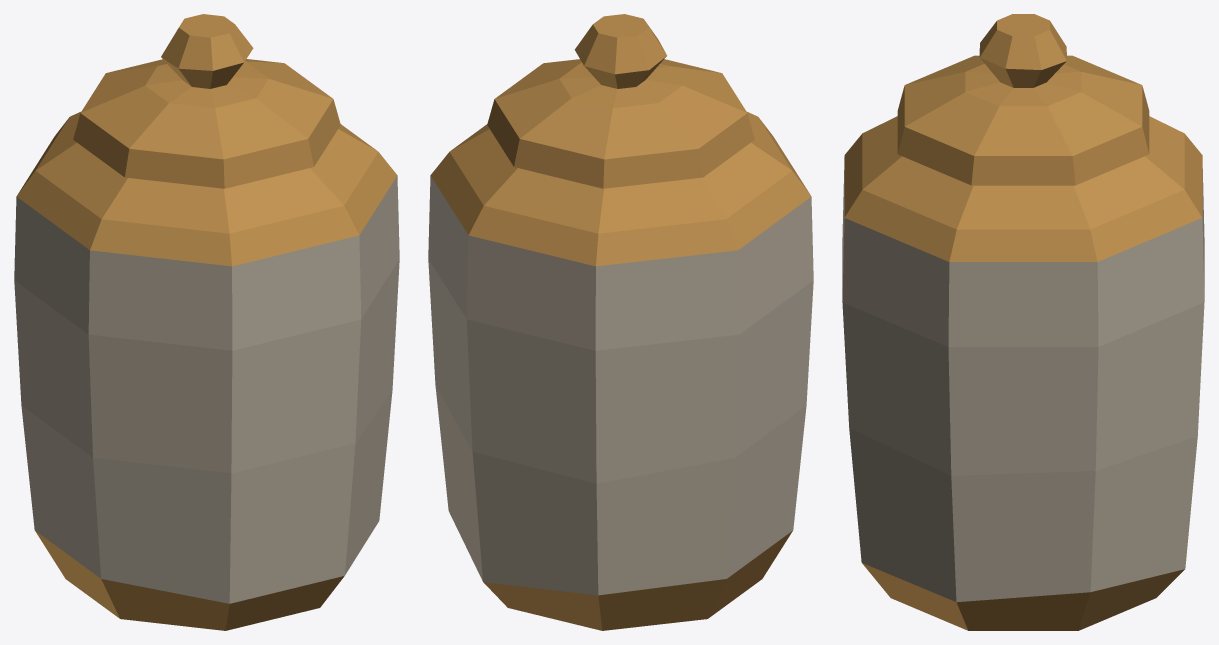
File: kingdom_SM_Item_Jar_01.gltf
3 renders of one model, left to right at view 1: azimuth 30°, elevation 25°; view 2: azimuth 150°, elevation 25°; view 3: azimuth 270°, elevation 25°, orthographic.
Visible parts, largest first — view 1: SM_Item_Jar_01; view 2: SM_Item_Jar_01; view 3: SM_Item_Jar_01.
Part boxes in pixels (x1=…): SM_Item_Jar_01: x1=14, y1=14, x2=399, y2=630; SM_Item_Jar_01: x1=428, y1=14, x2=813, y2=630; SM_Item_Jar_01: x1=842, y1=14, x2=1204, y2=630.
Size of the model in its own units: 0.175 by 0.2932 by 0.175.
1 material, 1 textured.
